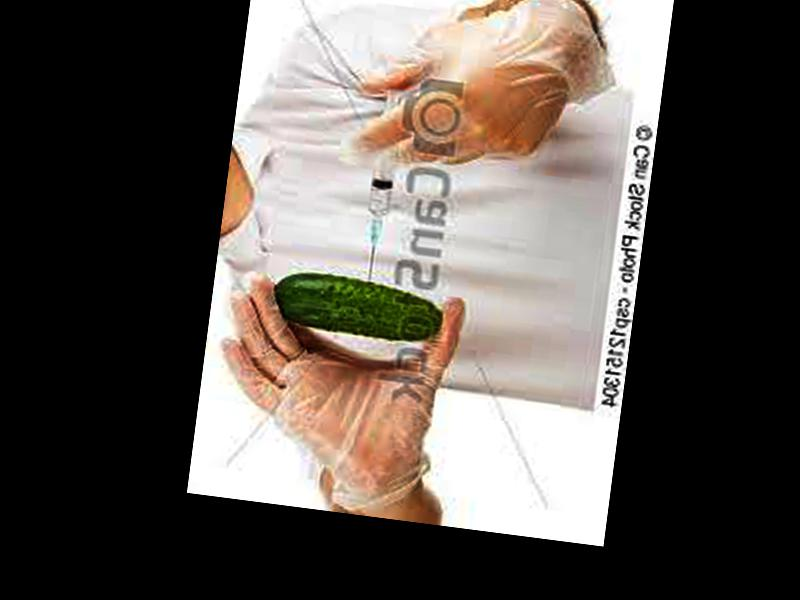Cucumber: (269, 270, 448, 348)
